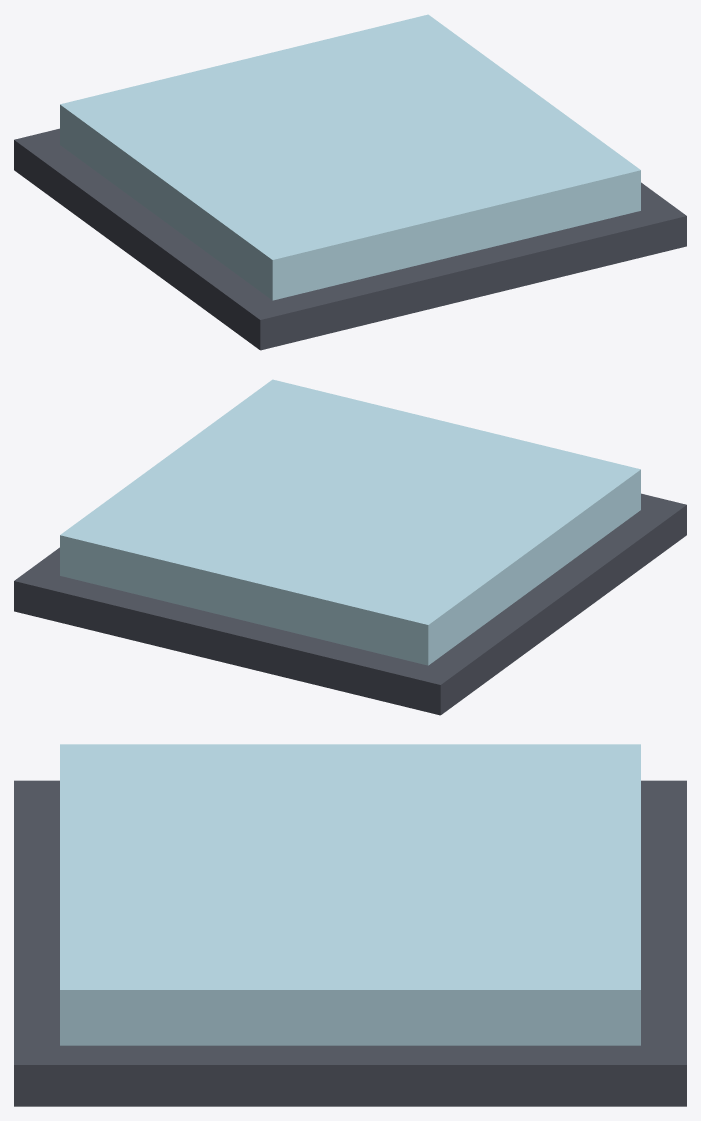
The model's file is vidro.glb.
3 views of the same model, one above another, from view 1: azimuth 30°, elevation 25°; view 2: azimuth 150°, elevation 25°; view 3: azimuth 270°, elevation 25° (orthographic). The views are drawn at different scales.
Parts seen in each view (by area): view 1: vidro; view 2: vidro; view 3: vidro.
Part boxes in pixels (x1,y1,x2,y2): vidro: (14, 14, 686, 350); vidro: (14, 379, 686, 715); vidro: (14, 744, 686, 1106).
Size of the model in its own units: 0.22 by 0.035 by 0.22.
